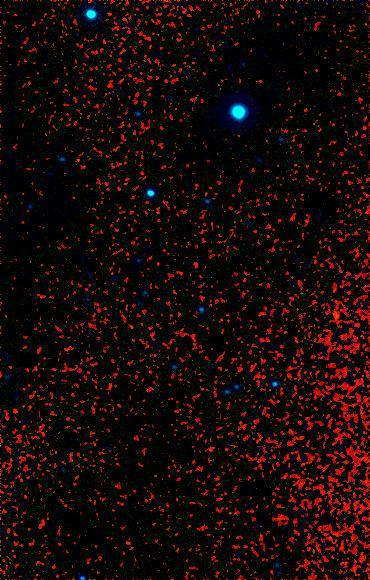star: (314, 301, 344, 331)
